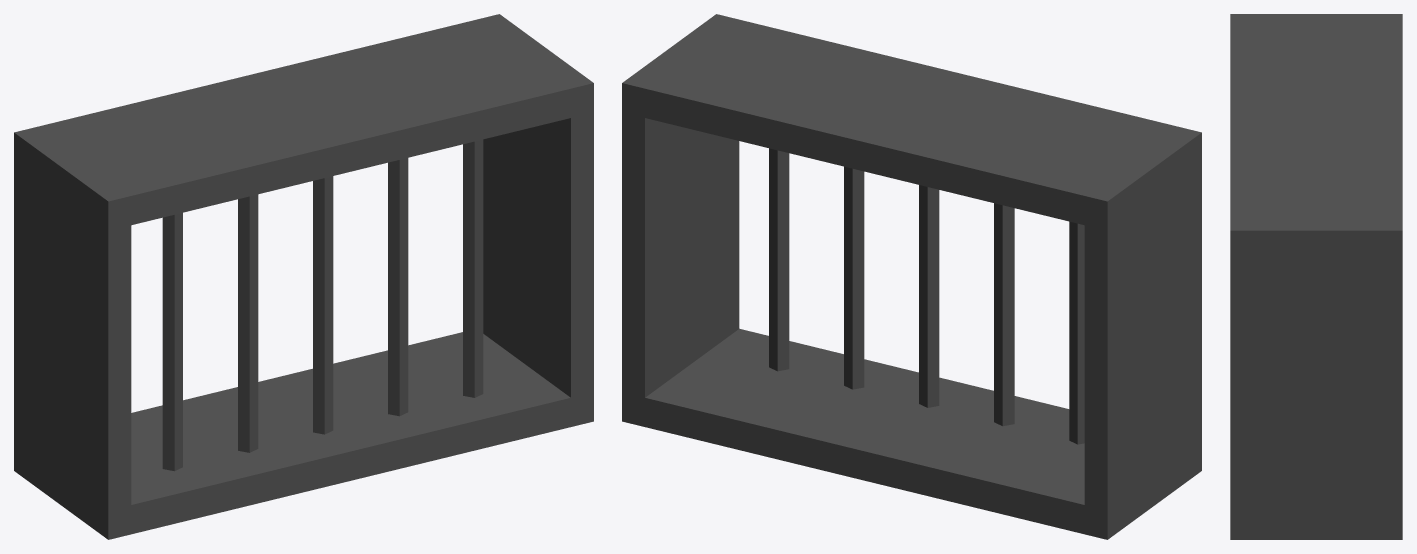
Rendered from Windows_01.fbx.
3 views of the same model, side by side, from view 1: azimuth 30°, elevation 25°; view 2: azimuth 150°, elevation 25°; view 3: azimuth 270°, elevation 25° (orthographic). The views are drawn at different scales.
Visible parts, largest first — view 1: Windows; view 2: Windows; view 3: Windows.
Boxes of the visible parts, x1,y1,x2,y2 form: Windows: [14, 14, 593, 539]; Windows: [622, 14, 1201, 539]; Windows: [1230, 14, 1402, 539].
Bounding box in the file's own units: 80.47 × 53.6 × 27.08.
1 material, 1 textured.
